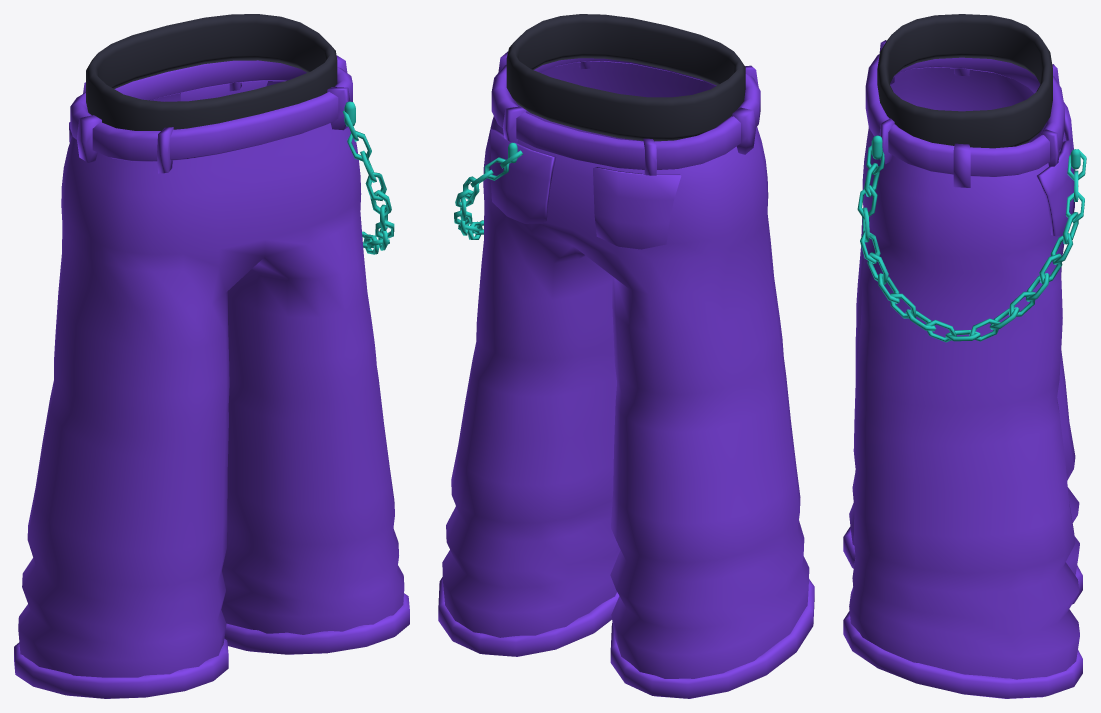
The model's file is pants_purple.glb.
The picture shows the model from 3 angles, left to right: view 1: azimuth 30°, elevation 25°; view 2: azimuth 150°, elevation 25°; view 3: azimuth 270°, elevation 25°; orthographic projection. The views are drawn at different scales.
Parts seen in each view (by area): view 1: Pants, BoxerWaistband, Waistband, Hem_R, Hem_L, WalletChain, BackPocket_L, BeltLoop_4, BeltLoop_2; view 2: Pants, BoxerWaistband, Waistband, BackPocket_R, Hem_R, BackPocket_L, Hem_L, WalletChain, BeltLoop_4; view 3: Pants, BoxerWaistband, Waistband, WalletChain, Hem_L, BackPocket_L, BeltLoop_3, Hem_R, BeltLoop_1.
Boxes of the visible parts, bbox=[...] form: Pants: bbox=[18, 81, 404, 677]; BoxerWaistband: bbox=[86, 14, 337, 130]; Waistband: bbox=[70, 60, 352, 161]; Hem_R: bbox=[14, 638, 228, 698]; Hem_L: bbox=[224, 593, 409, 654]; WalletChain: bbox=[342, 110, 394, 254]; BackPocket_L: bbox=[180, 81, 267, 101]; BeltLoop_4: bbox=[76, 115, 101, 162]; BeltLoop_2: bbox=[157, 127, 173, 173]; Pants: bbox=[442, 61, 809, 678]; BoxerWaistband: bbox=[506, 14, 745, 141]; Waistband: bbox=[491, 58, 760, 169]; BackPocket_R: bbox=[593, 167, 681, 249]; Hem_R: bbox=[610, 579, 814, 698]; BackPocket_L: bbox=[490, 129, 555, 223]; Hem_L: bbox=[438, 577, 619, 656]; WalletChain: bbox=[454, 150, 522, 239]; BeltLoop_4: bbox=[732, 107, 755, 154]; Pants: bbox=[849, 67, 1079, 679]; BoxerWaistband: bbox=[877, 14, 1052, 148]; Waistband: bbox=[865, 54, 1064, 176]; WalletChain: bbox=[857, 145, 1086, 342]; Hem_L: bbox=[843, 611, 1082, 698]; BackPocket_L: bbox=[1037, 140, 1074, 236]; BeltLoop_3: bbox=[953, 143, 970, 187]; Hem_R: bbox=[843, 527, 1082, 604]; BeltLoop_1: bbox=[879, 118, 894, 164].
Bounding box in the file's own units: 0.5802 × 0.943 × 0.3635.
